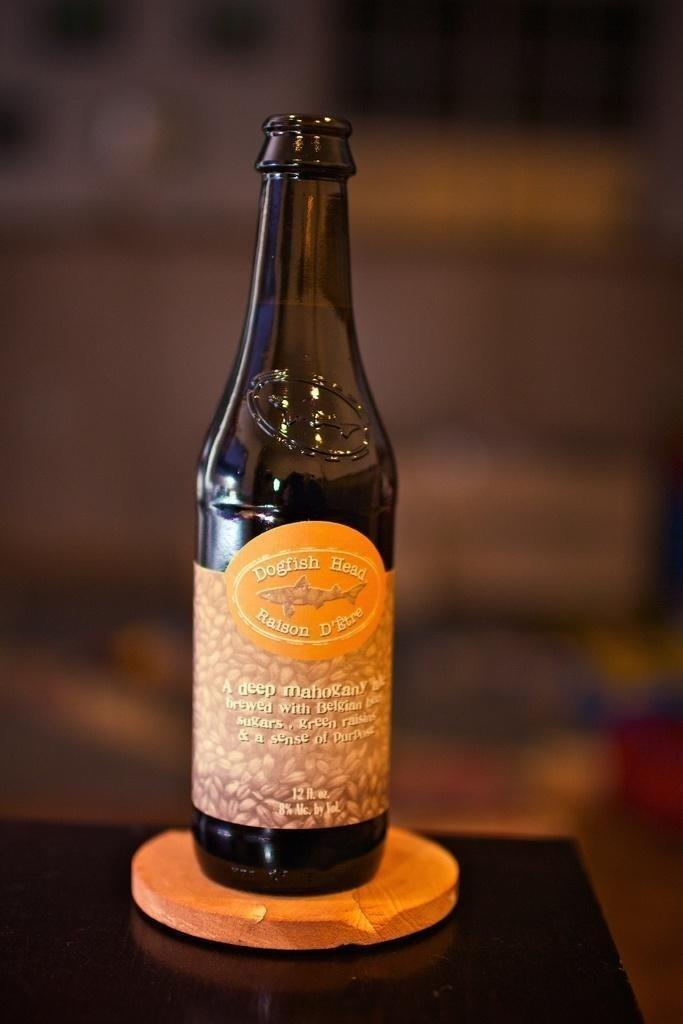bottle-glass: (185, 109, 402, 901)
